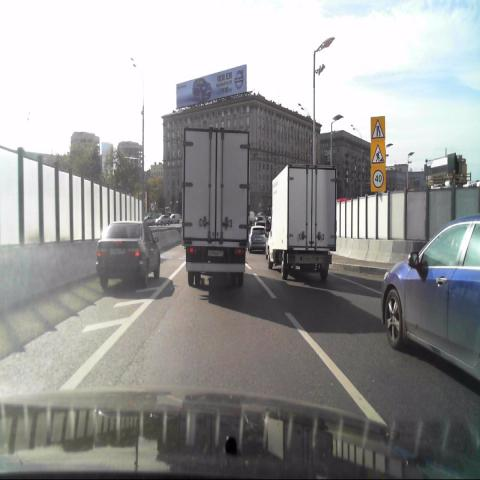1_20_2: (370, 117, 386, 141)
1_25: (371, 143, 386, 166)
